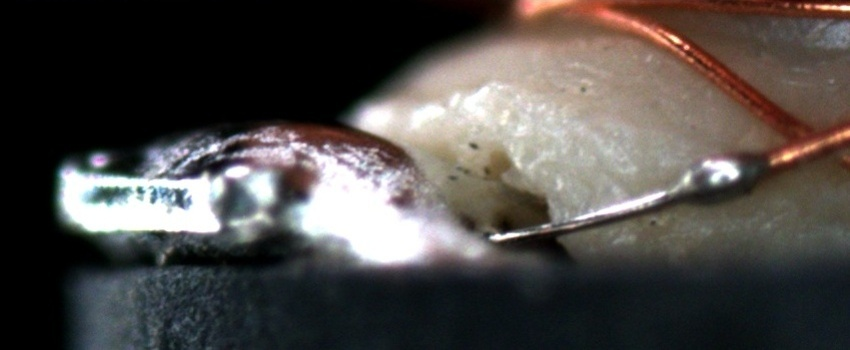TB: (669, 151, 775, 214)
TS: (482, 152, 767, 244)
TTCW: (486, 134, 813, 245)
